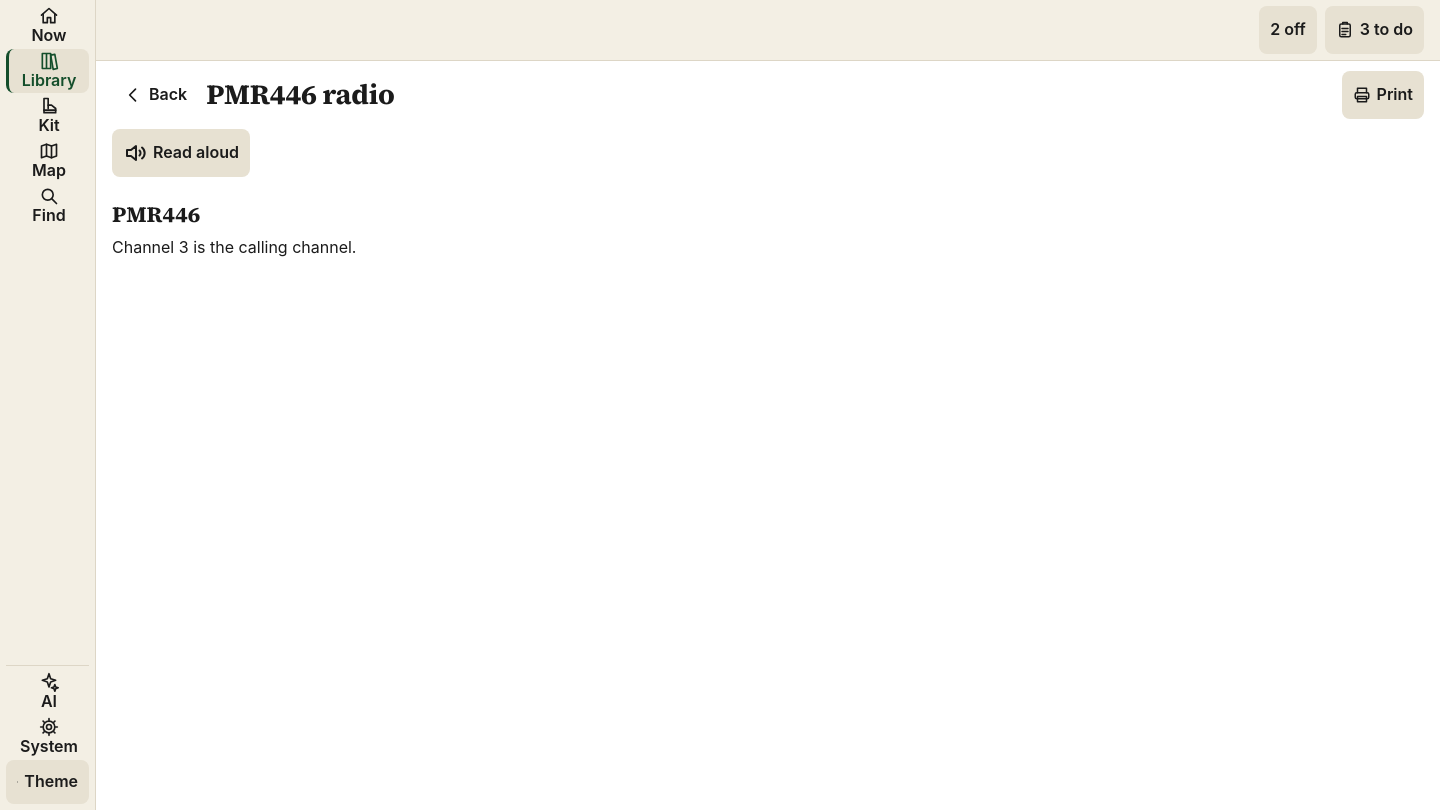
Test case: Read aloud › sends the visible text to the box in chunks and offers a stop while it reads
Click the button "Read aloud" at (181, 153), box [112,129,250,177]
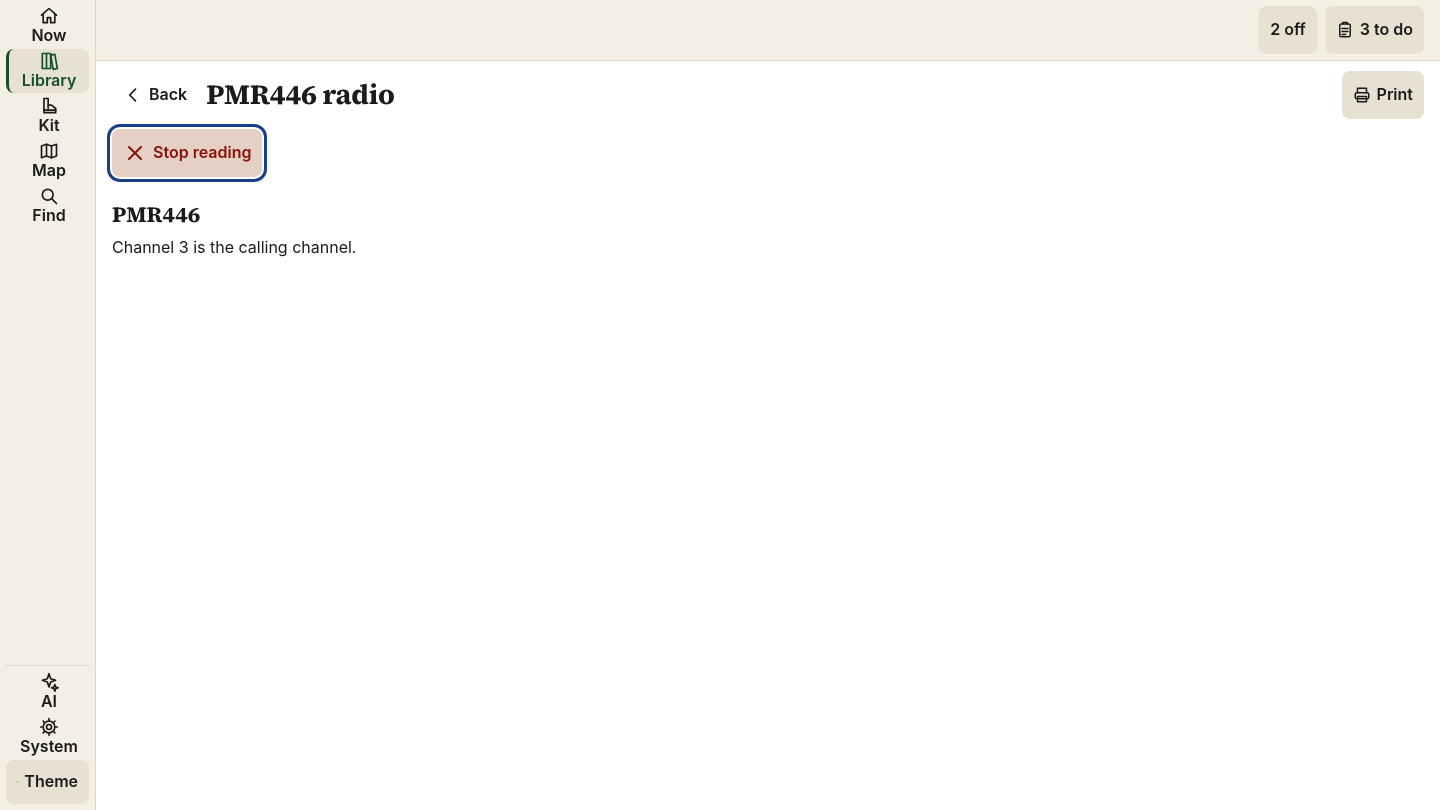
Click the button "Stop reading" at (187, 153), box [112,129,262,177]
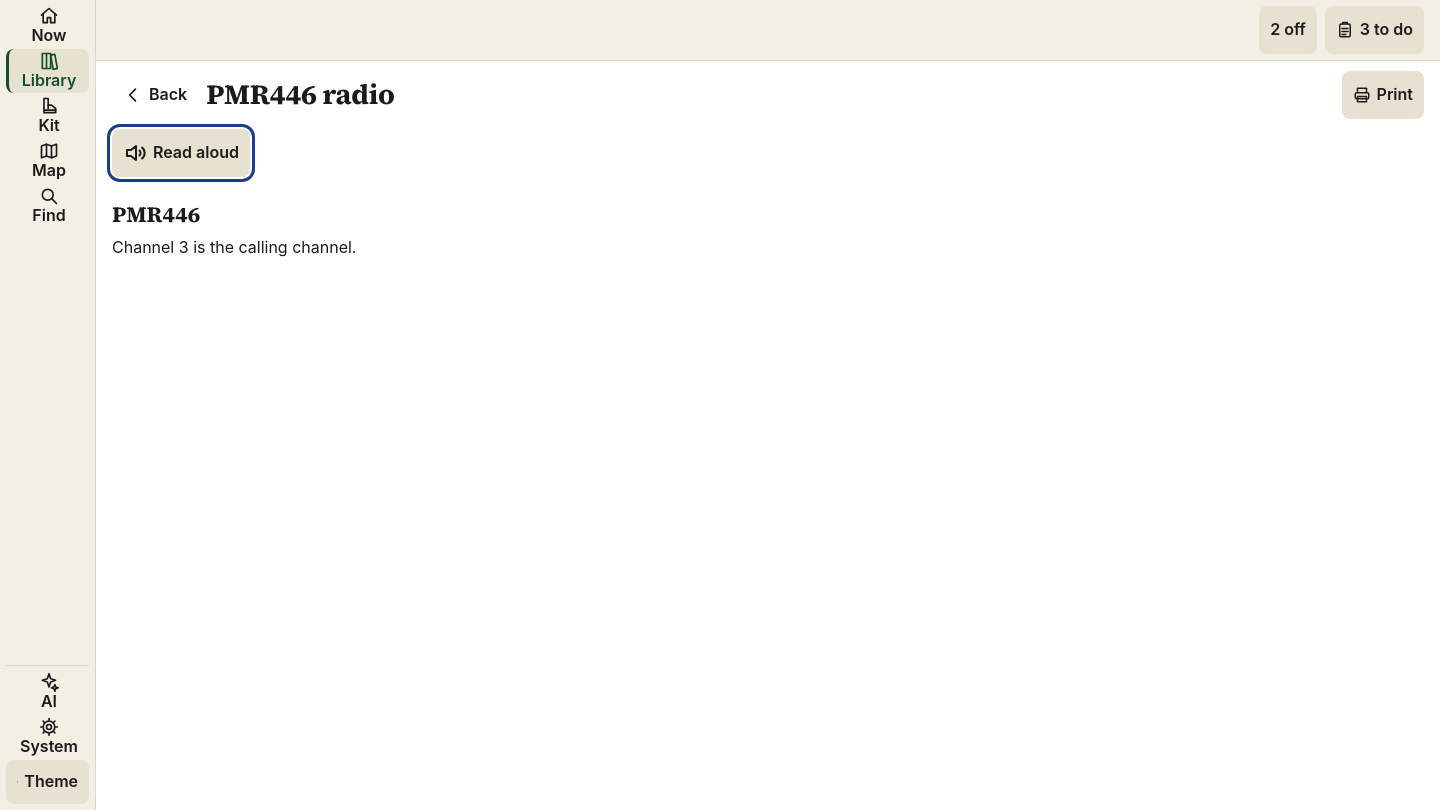
Check: the button "Read aloud" is shown, box [112,129,250,177]
